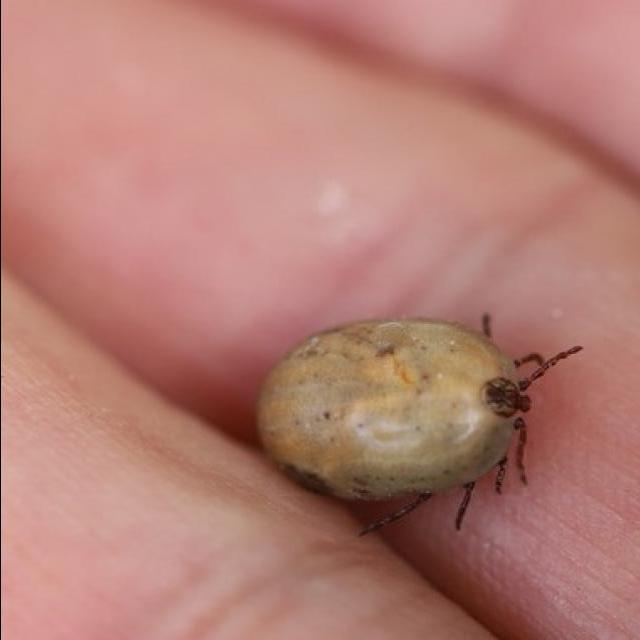Dermacentor Reticulatus-F-Fed: (254, 310, 580, 537)
